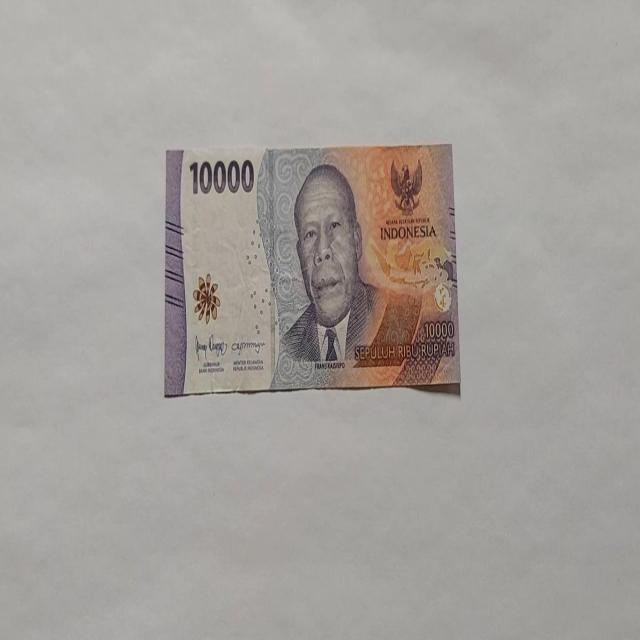Kertas: (164, 142, 460, 398), (189, 156, 255, 196)
